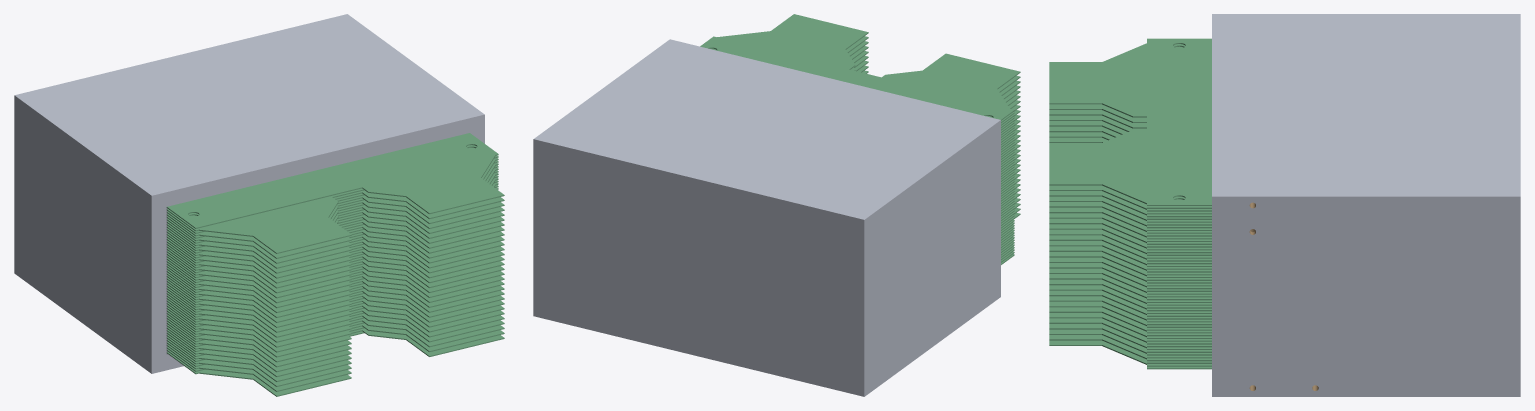
File: tower_w_2blocks.glb
3 renders of one model, left to right at view 1: azimuth 30°, elevation 25°; view 2: azimuth 150°, elevation 25°; view 3: azimuth 270°, elevation 25°, orthographic. The views are drawn at different scales.
Bounding box in the file's own units: 66.5 × 34 × 72.5.
